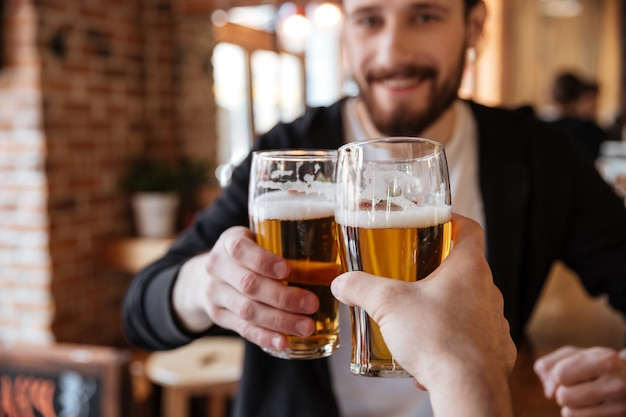alcohol: (336, 140, 456, 378), (249, 146, 348, 362)
